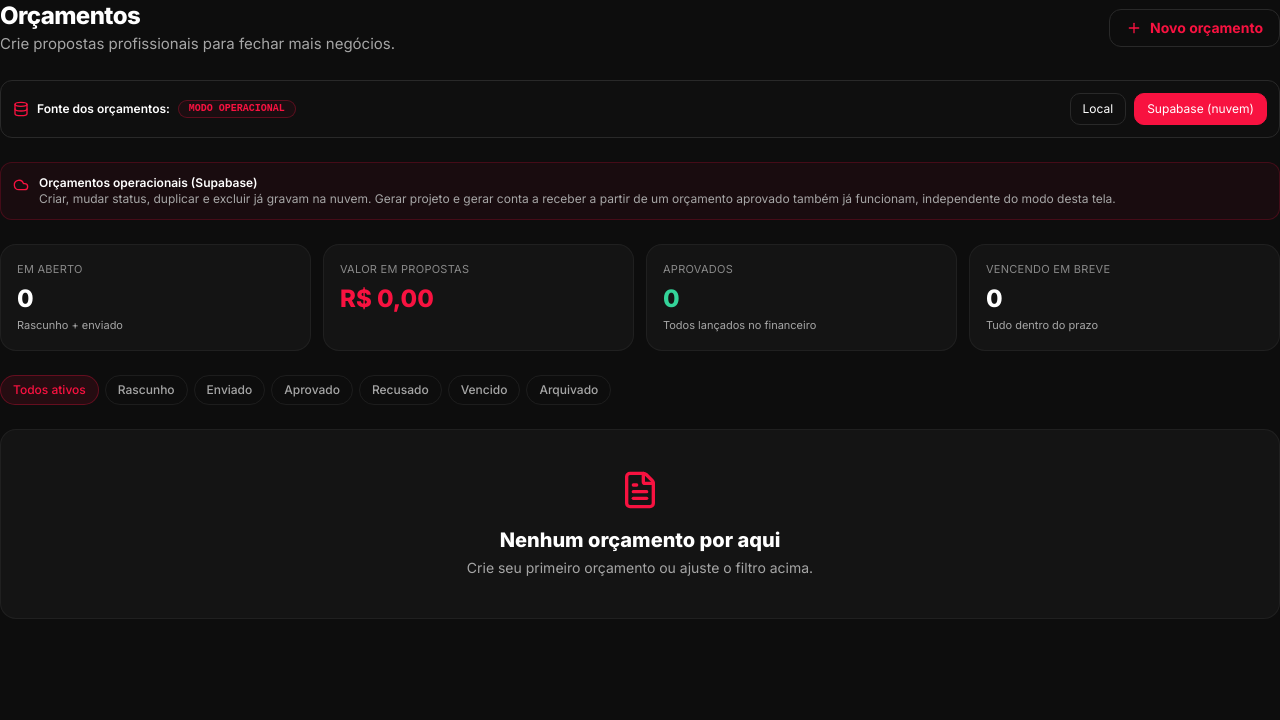
Test: Wizard · catálogo em modo LOCAL (padrão) — intocado › lista os serviços locais, grava serviceId LOCAL, copia nome/preço — e nenhum hook de nuvem do catálogo existe (nem QueryClient)
Later steps or results of the test are not shown.
Step 1. Click the button "Novo orçamento" → {"x": 1195, "y": 28}, box left=1109, top=9, right=1279, bottom=47
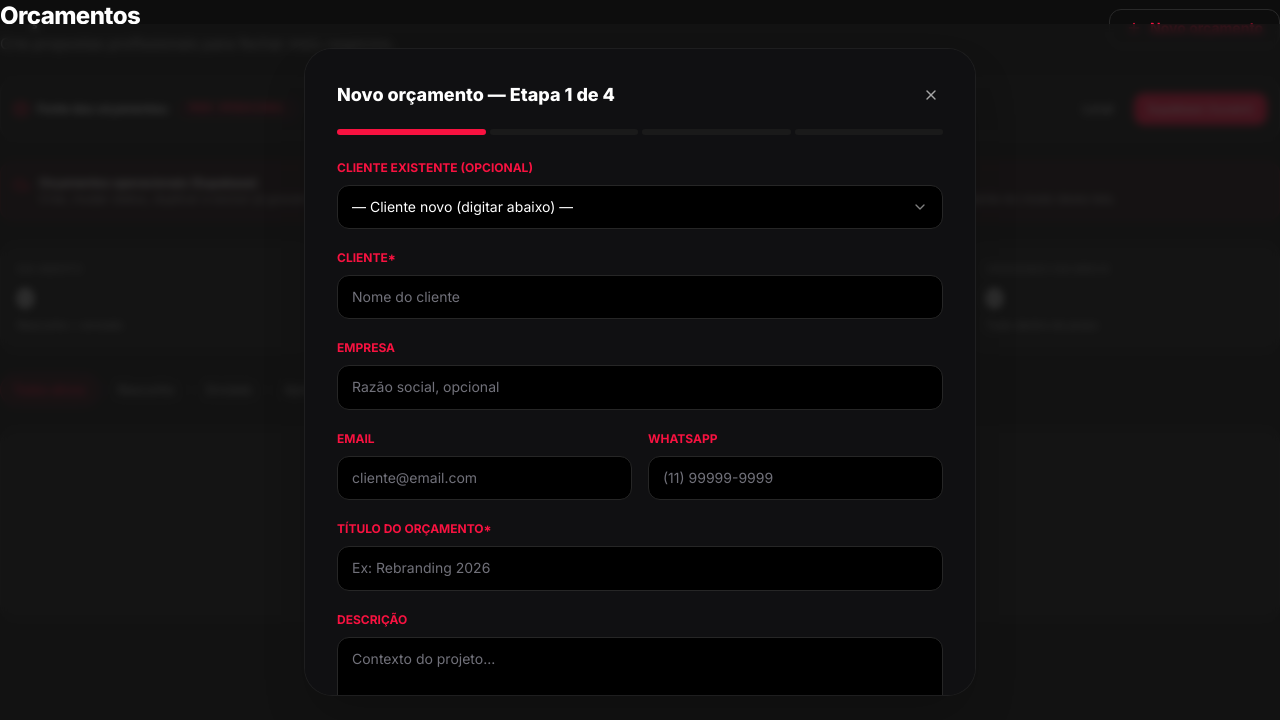
Step 2. Type "Cliente CT5" into the field with placeholder "Nome do cliente" → {"x": 640, "y": 297}, box left=337, top=275, right=943, bottom=319
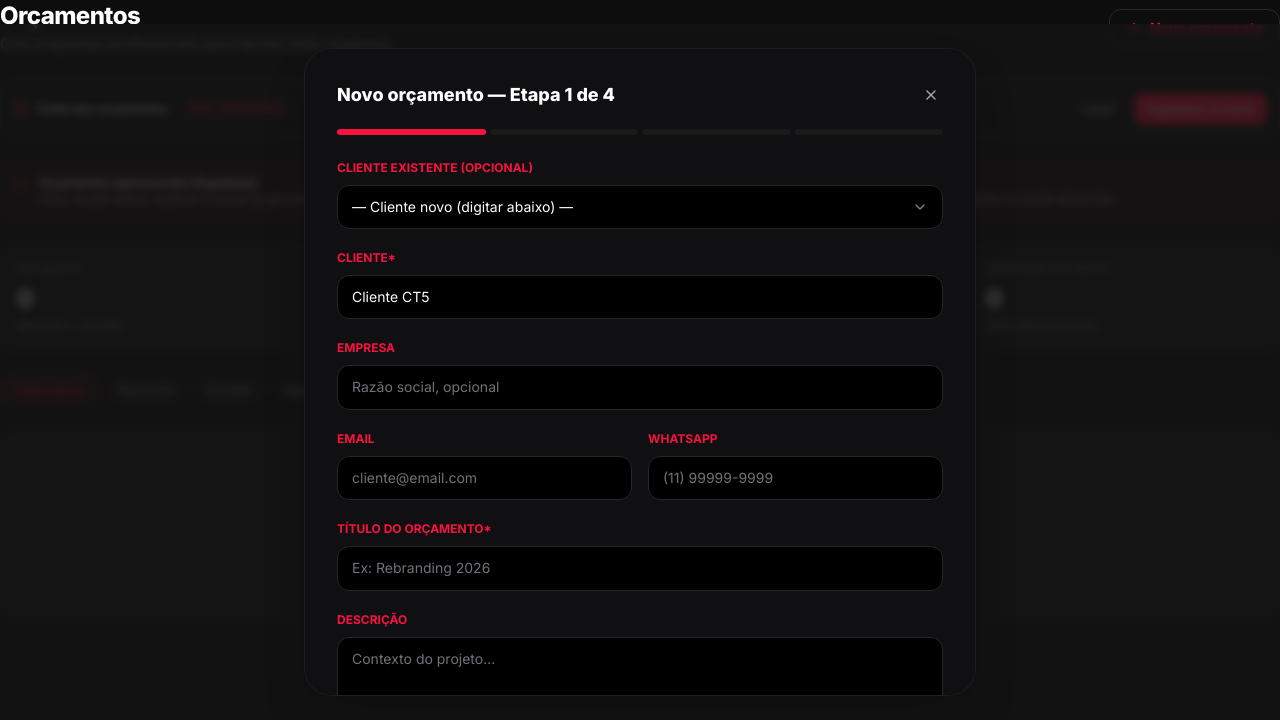
Step 3. Type "Orçamento CT5" into the field with placeholder "Ex: Rebranding 2026" → {"x": 640, "y": 568}, box left=337, top=546, right=943, bottom=591
(page scrolled)
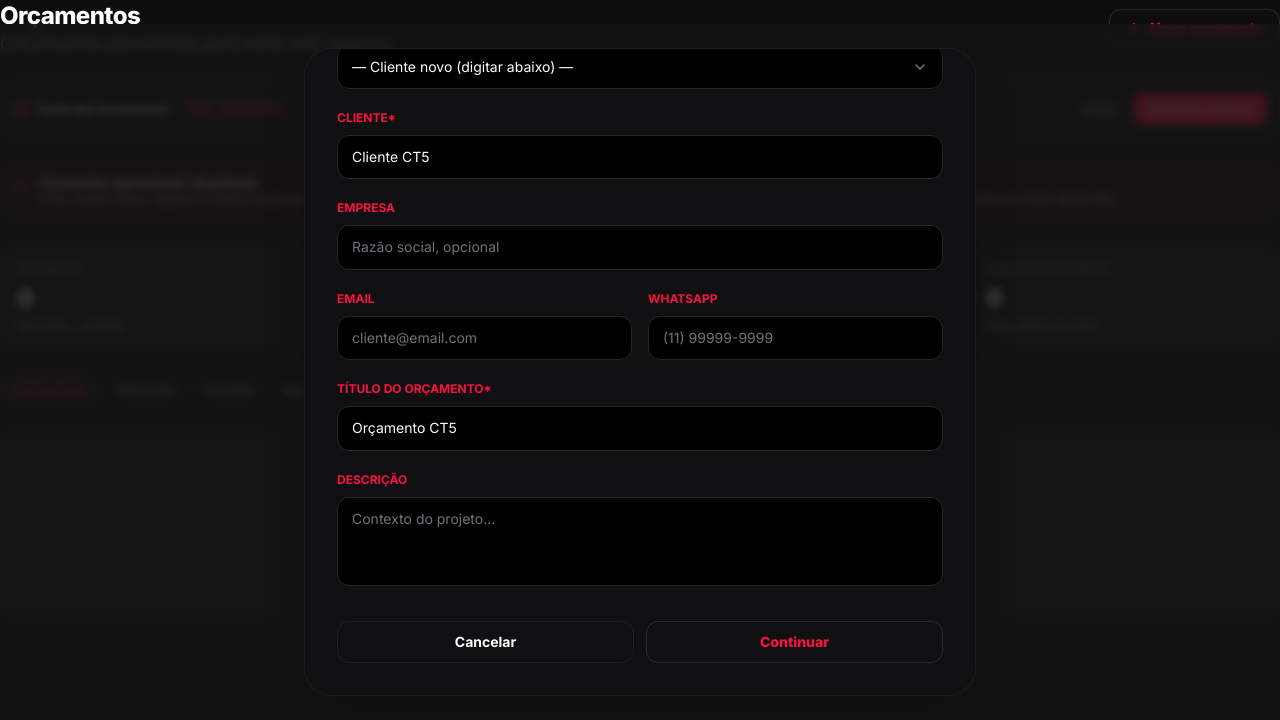
Step 4. Click the button "Continuar" → {"x": 794, "y": 642}, box left=646, top=621, right=943, bottom=663
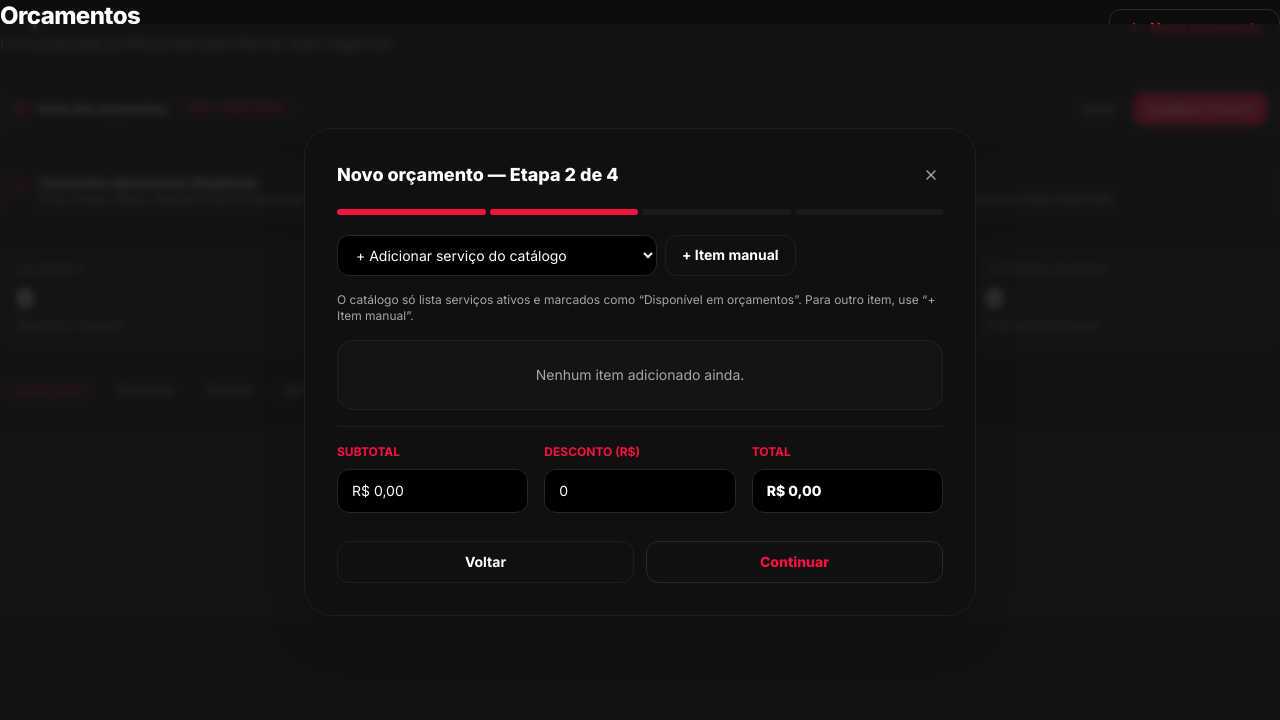
expect the button "+ Item manual" is shown: met, box left=665, top=235, right=796, bottom=276
